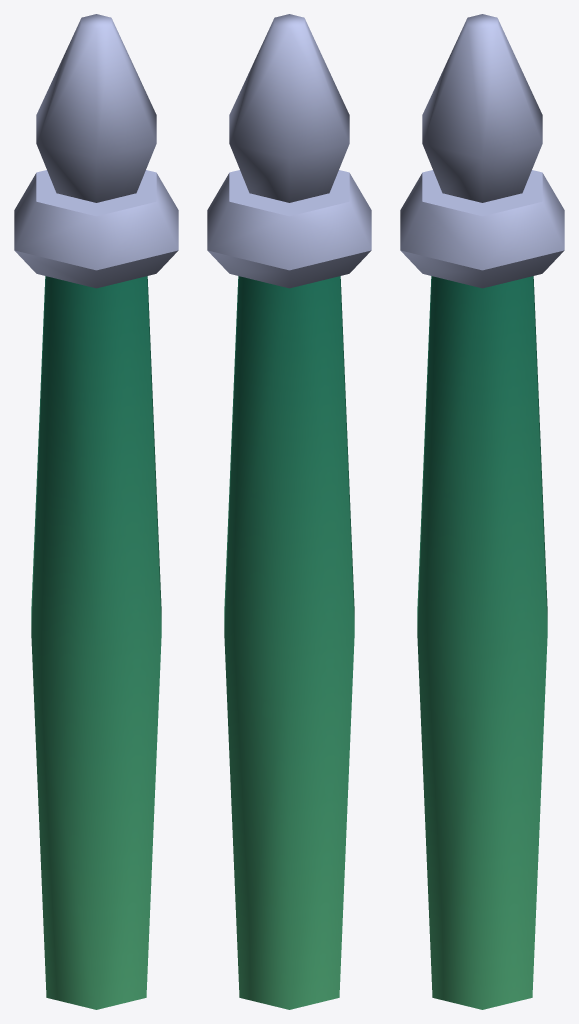
File: iron-fence-bar.glb
The picture shows the model from 3 angles, left to right: view 1: azimuth 30°, elevation 25°; view 2: azimuth 150°, elevation 25°; view 3: azimuth 270°, elevation 25°; orthographic projection.
Visible parts, largest first — view 1: iron-fence-bar; view 2: iron-fence-bar; view 3: iron-fence-bar.
Part boxes in pixels (x1=…): iron-fence-bar: x1=14, y1=14, x2=178, y2=1009; iron-fence-bar: x1=207, y1=14, x2=371, y2=1009; iron-fence-bar: x1=400, y1=14, x2=564, y2=1009.
Bounding box in the file's own units: 0.1194 × 0.6689 × 0.1034.
1 material, 1 textured.
